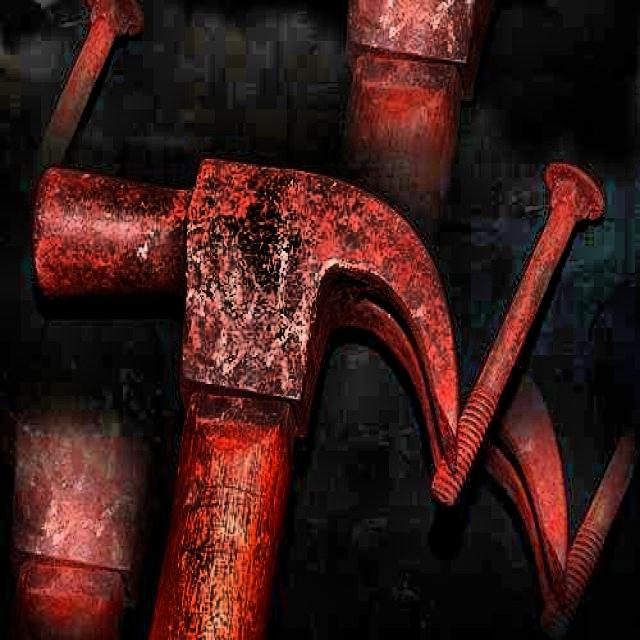hammer: (30, 150, 456, 634)
